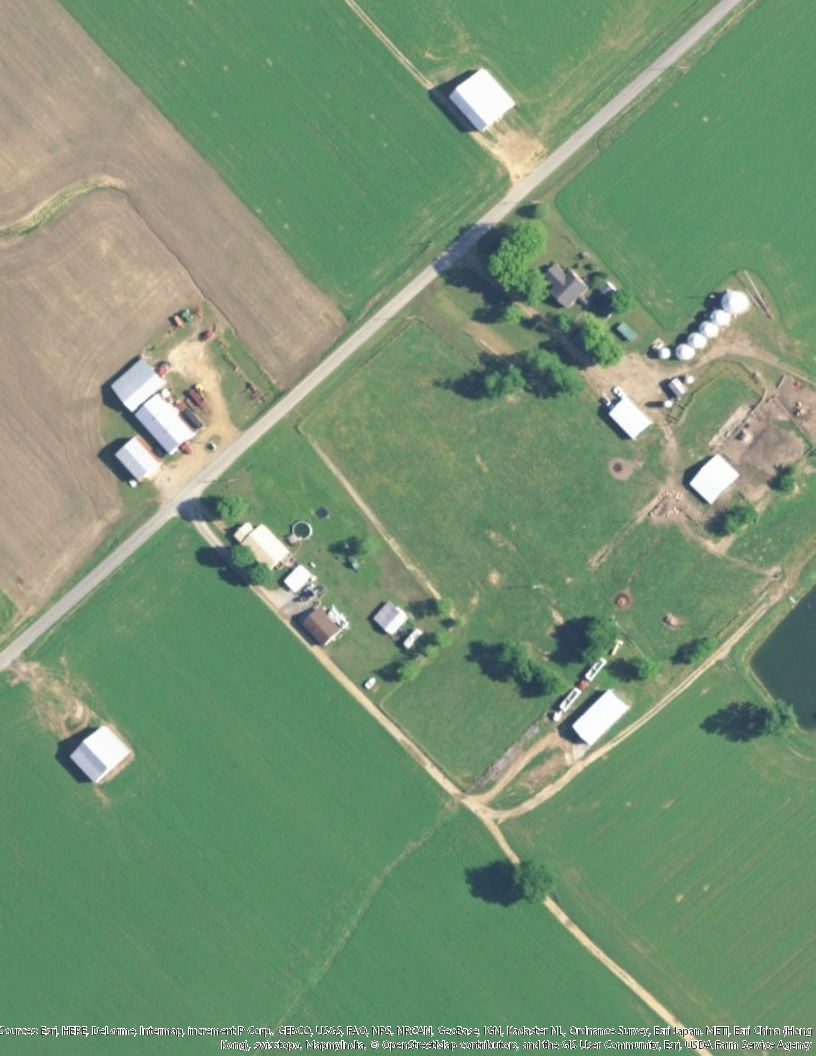cafo: (570, 690, 627, 746), (688, 449, 740, 506)
